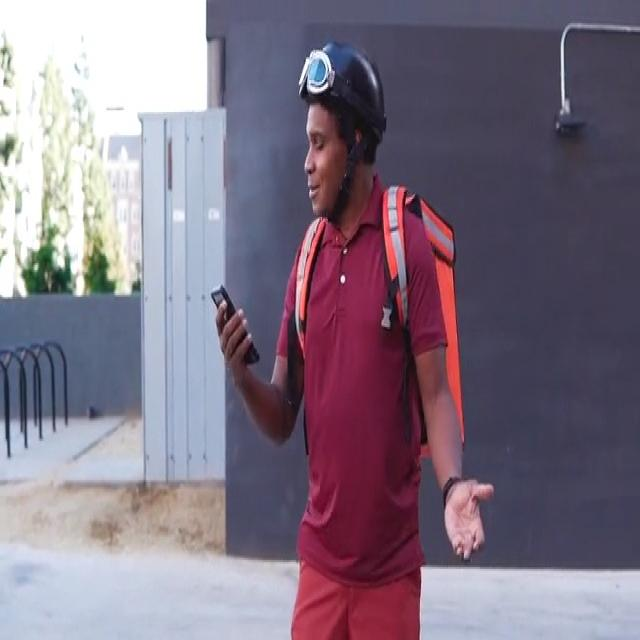Helmet_Wearer: (294, 43, 388, 217)
Person: (217, 42, 499, 640)
